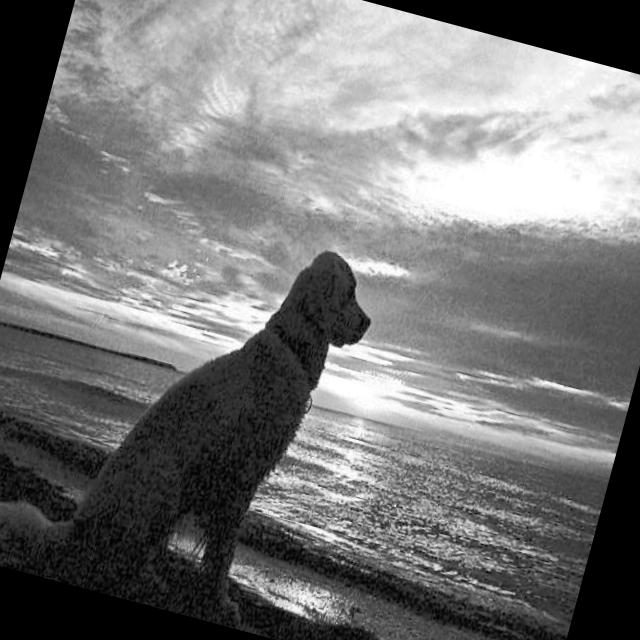Dog: (18, 179, 413, 640)
